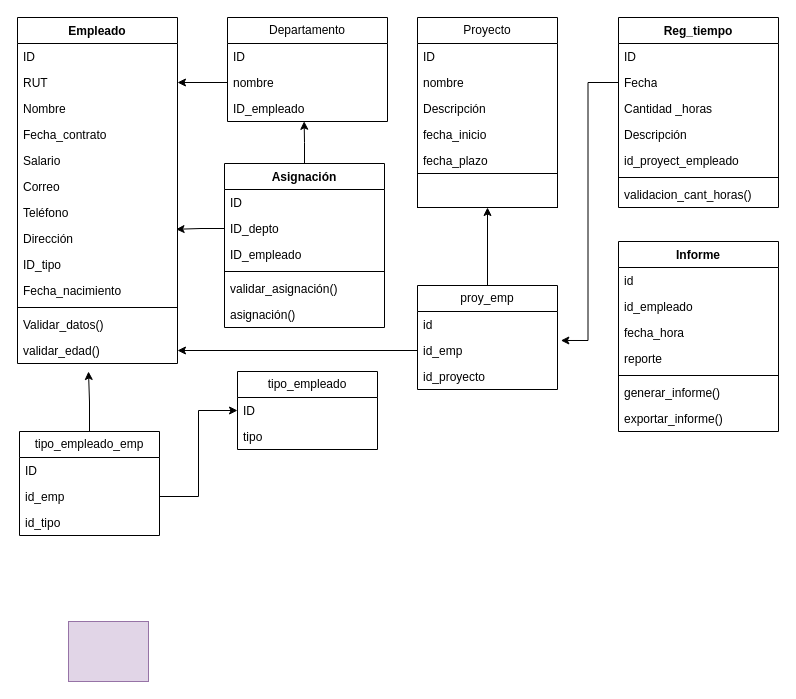
Some shapes in this 796 by 699 pixel diagram are drawn without their labels. The shapes that lost their labels are listed below. From the top down, each one's centre as x and y in pixels, then its label:
At point (487, 190): "Validar_fecha()".
At point (108, 651): "trello.com OWASP".
